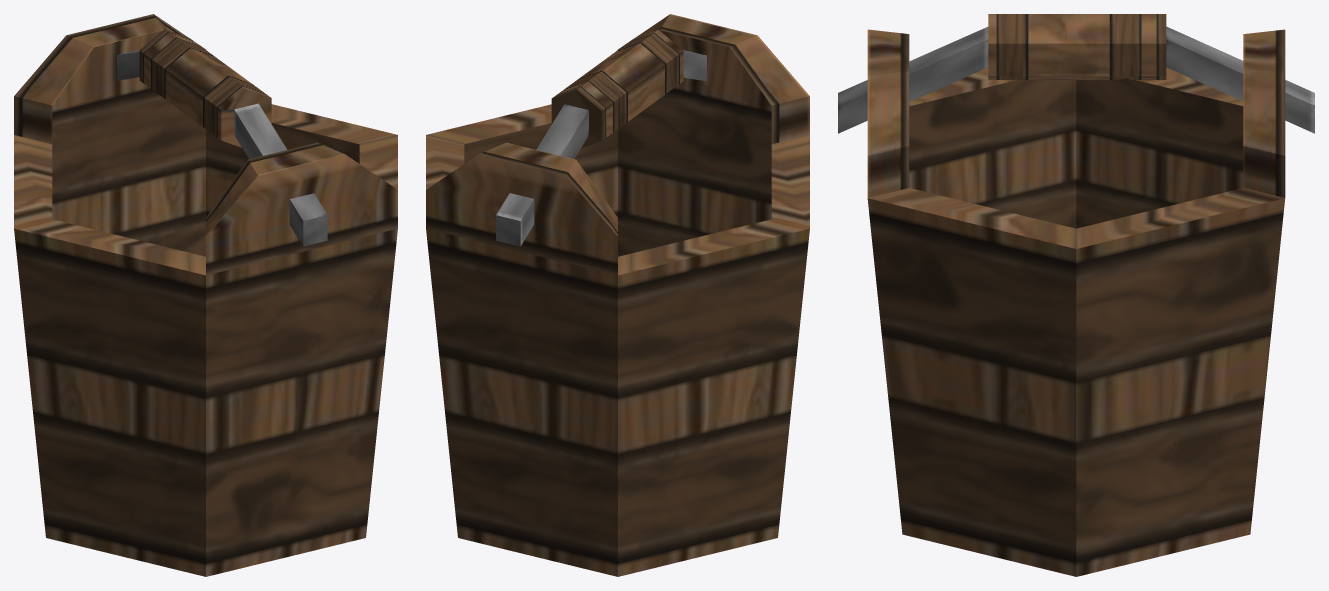
Rendered from Bucket.FBX.
3 views of the same model, side by side, from view 1: azimuth 30°, elevation 25°; view 2: azimuth 150°, elevation 25°; view 3: azimuth 270°, elevation 25° (orthographic). The views are drawn at different scales.
Visible parts, largest first — view 1: Bucket; view 2: Bucket; view 3: Bucket.
Boxes of the visible parts, left/top/right/bottom form: Bucket: left=14, top=14, right=397, bottom=576; Bucket: left=426, top=14, right=809, bottom=576; Bucket: left=838, top=14, right=1314, bottom=576.
Size of the model in its own units: 24.94 by 24.66 by 27.29.
